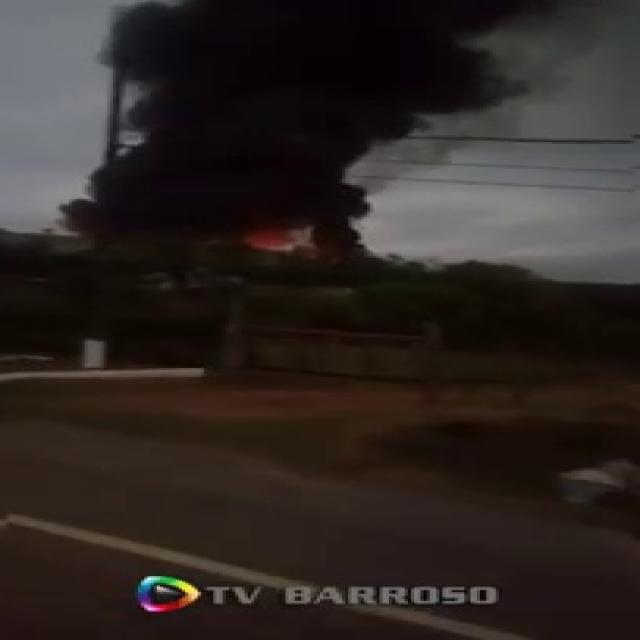Fire: (242, 222, 328, 256)
Smoke: (59, 4, 542, 238)
